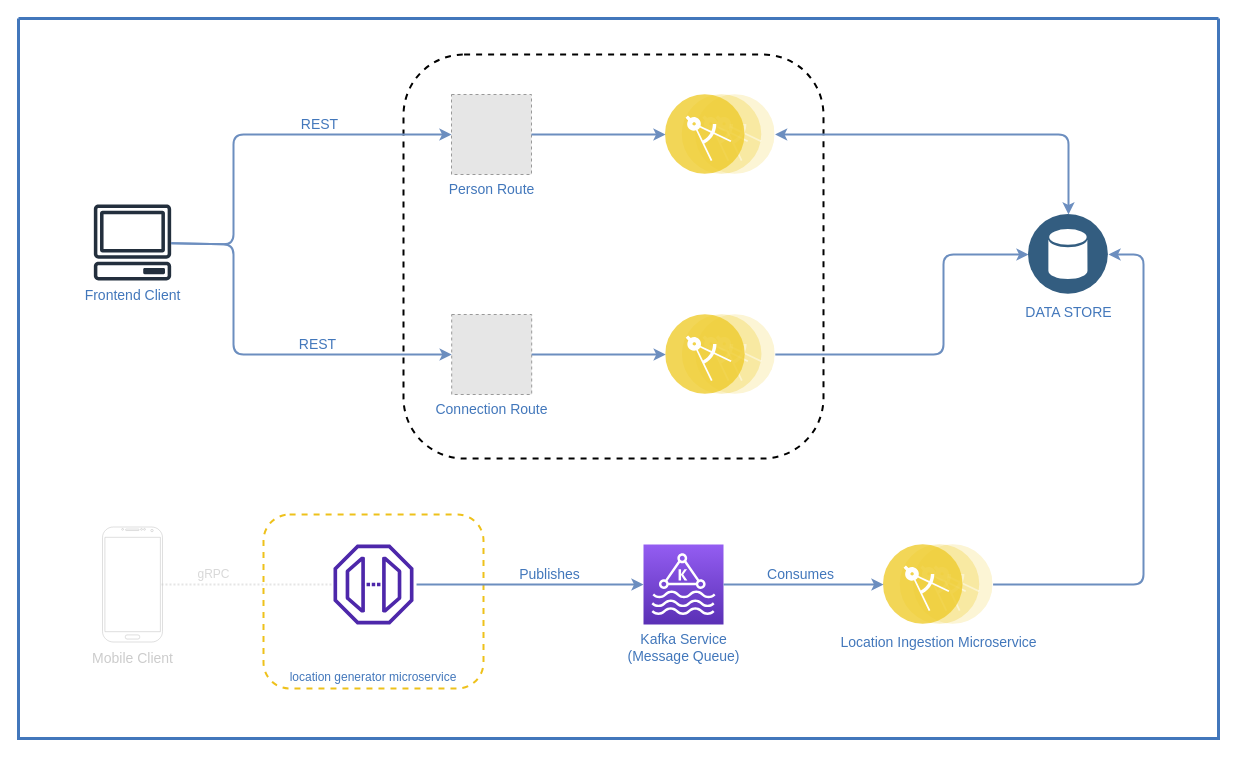
The diagram is 1237 pixels wide and 757 high, and some of its shapes have lost their labels. Grey dashed boxes stand in for pictures. Here are the shapes that lost their labels. From the top down, the centre of each, then its label:
At point (720, 134): "Person Microservice".
At point (720, 354): "Connection Microservice".
At point (373, 584): "Location gRPC Endpoint".
